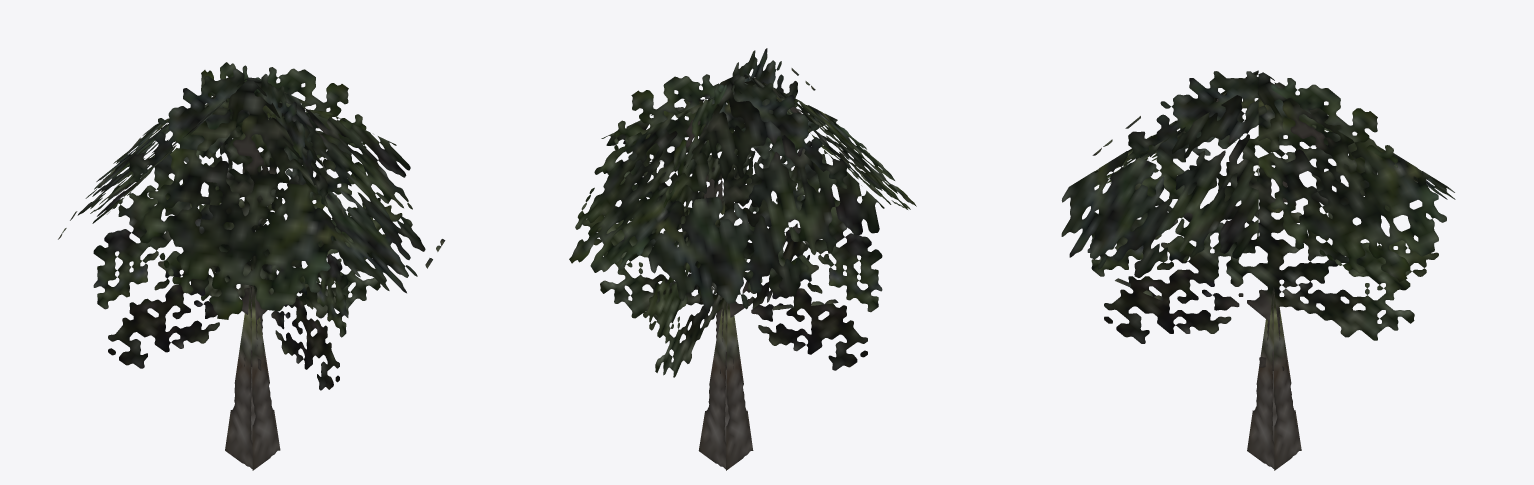
3 views of the same model, side by side, from view 1: azimuth 30°, elevation 25°; view 2: azimuth 150°, elevation 25°; view 3: azimuth 270°, elevation 25° (orthographic).
Visible parts, largest first — view 1: TC1_1; view 2: TC1_1; view 3: TC1_1.
Boxes of the visible parts, left/top/right/bottom form: TC1_1: left=58, top=62, right=445, bottom=470; TC1_1: left=569, top=48, right=916, bottom=470; TC1_1: left=1061, top=70, right=1455, bottom=470.
Bounding box in the file's own units: 25.9 × 24.01 × 25.9.
1 material, 1 textured.
